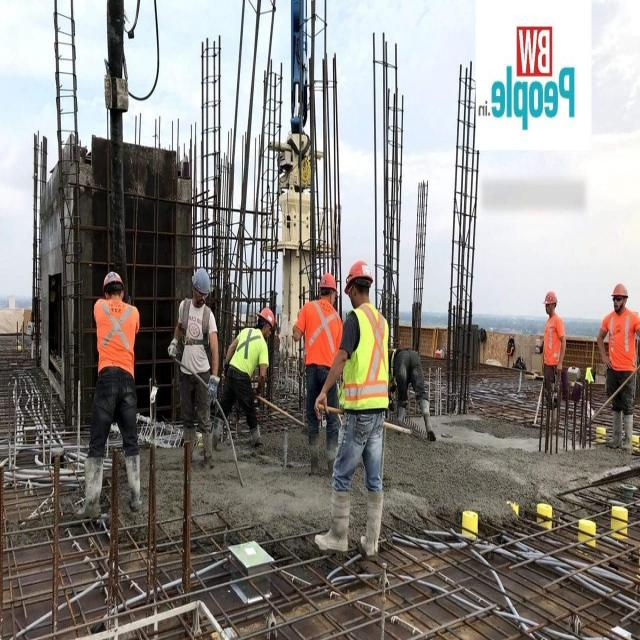Reflective-Jacket: (336, 304, 394, 414), (89, 298, 143, 388), (294, 300, 344, 376), (172, 295, 218, 377), (224, 321, 272, 381), (606, 309, 638, 372), (542, 315, 564, 369)
Safety-Helmet: (341, 252, 377, 296), (98, 263, 130, 301), (188, 262, 214, 300), (315, 266, 341, 298), (256, 300, 280, 334), (611, 280, 629, 299), (543, 288, 559, 308)
